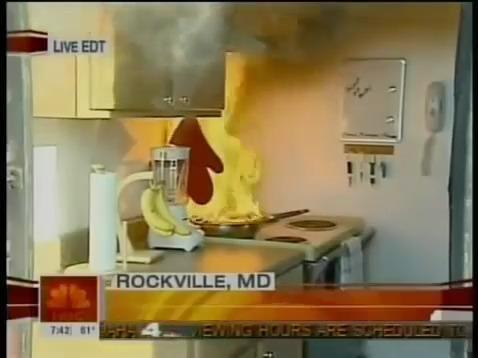fire: (166, 51, 266, 223)
